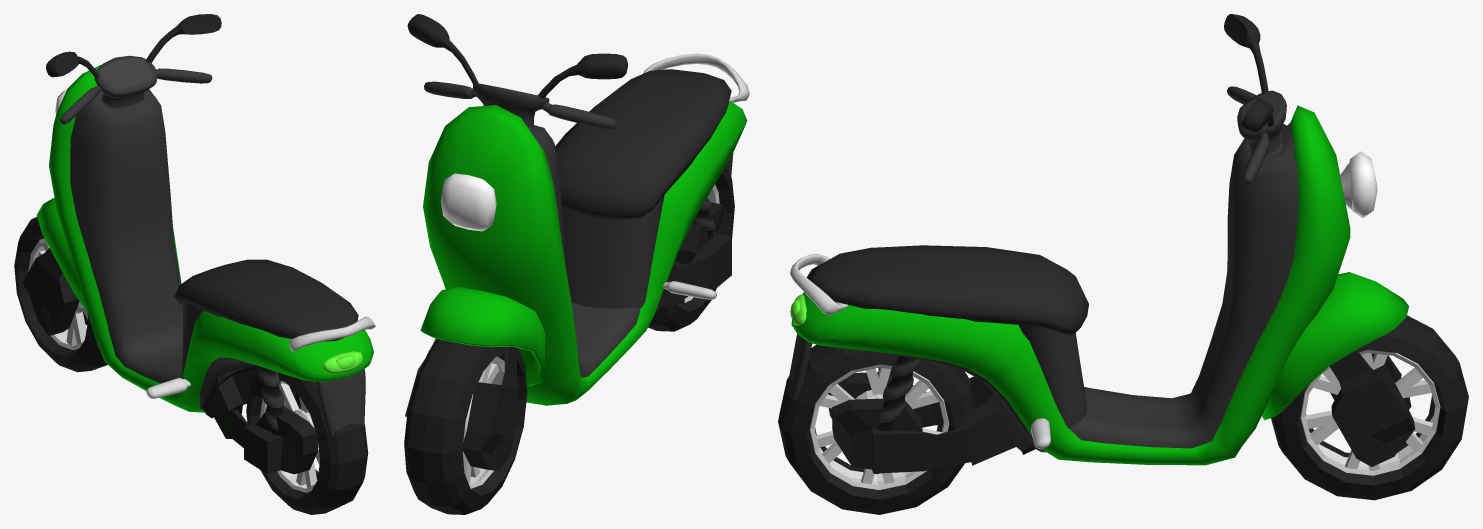
The model's file is moped.fbx.
3 views of the same model, side by side, from view 1: azimuth 30°, elevation 25°; view 2: azimuth 150°, elevation 25°; view 3: azimuth 270°, elevation 25° (orthographic). The views are drawn at different scales.
Visible parts, largest first — view 1: Moped.002; view 2: Moped.002; view 3: Moped.002.
Part boxes in pixels (x1=…): Moped.002: x1=14, y1=14, x2=375, y2=514; Moped.002: x1=404, y1=14, x2=749, y2=514; Moped.002: x1=778, y1=14, x2=1468, y2=514.
Size of the model in its own units: 55.84 by 102 by 147.
